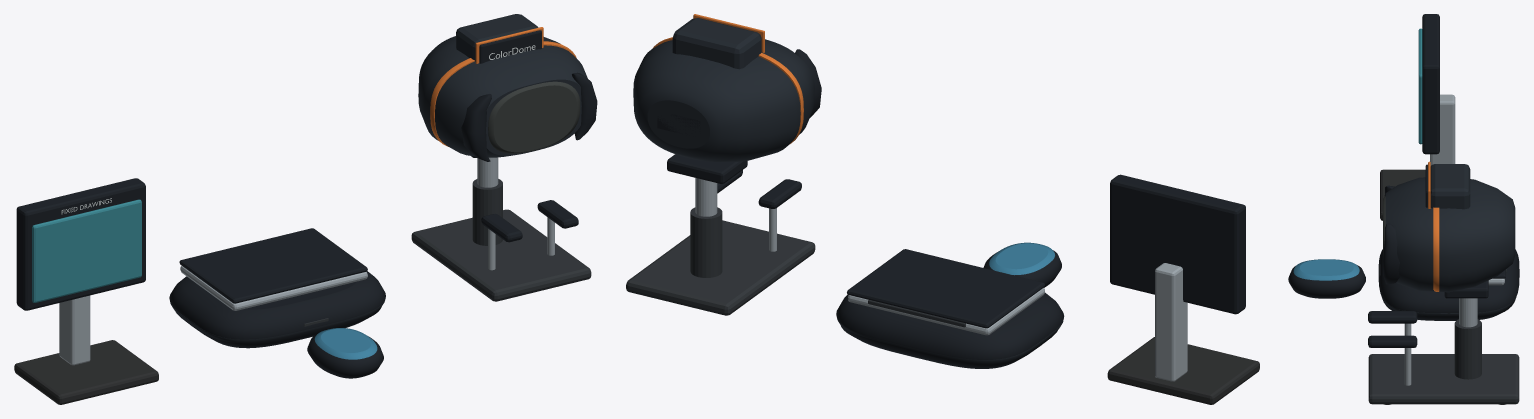
File: e3-colordome.glb
The picture shows the model from 3 angles, left to right: view 1: azimuth 30°, elevation 25°; view 2: azimuth 150°, elevation 25°; view 3: azimuth 270°, elevation 25°; orthographic projection. The views are drawn at different scales.
Parts seen in each view (by area): view 1: inferred_fixed_dome_stand Matte stand and trim, d125_nominal_outer_shell, detached_pattern_selection_panel, e3_console_dimensioned_shell, Closed portable lid, Detached archive plate foot, Detached fixed plate surround, d125_closed_opaque_face, colordome_d125_closed_head Dark molded graphite, Detached plate support, D125 raised fixed ID brow, Amplifier inactive blue cap (+6 smaller); view 2: d125_nominal_outer_shell, Detached fixed plate surround, inferred_fixed_dome_stand Matte stand and trim, Closed portable lid, e3_console_dimensioned_shell, Detached archive plate foot, Detached plate support, D125 raised fixed ID brow, inferred_fixed_dome_stand Dark molded graphite, Amplifier inactive blue cap, inferred_fixed_dome_stand Inactive aluminum support, Unpowered portable body (+4 smaller); view 3: d125_nominal_outer_shell, inferred_fixed_dome_stand Matte stand and trim, e3_console_dimensioned_shell, Detached fixed plate surround, D125 raised fixed ID brow, inferred_fixed_dome_stand Dark molded graphite, amplifier_sealed_oval_housing, Detached plate support, Amplifier inactive blue cap, colordome_d125_closed_head Dark molded graphite, inferred_fixed_dome_stand Inactive aluminum support, Detached archive plate foot (+3 smaller).
Part boxes in pixels (box(x1,y1,x2,y2)): inferred_fixed_dome_stand Matte stand and trim: box(411, 179, 591, 301); d125_nominal_outer_shell: box(418, 36, 587, 157); detached_pattern_selection_panel: box(32, 199, 141, 302); e3_console_dimensioned_shell: box(169, 271, 385, 348); Closed portable lid: box(179, 228, 367, 303); Detached archive plate foot: box(14, 340, 158, 404); Detached fixed plate surround: box(16, 178, 145, 310); d125_closed_opaque_face: box(488, 81, 580, 153); colordome_d125_closed_head Dark molded graphite: box(461, 30, 597, 161); Detached plate support: box(59, 295, 90, 365); D125 raised fixed ID brow: box(456, 14, 538, 61); Amplifier inactive blue cap: box(314, 328, 377, 359); d125_nominal_outer_shell: box(633, 39, 814, 161); Detached fixed plate surround: box(1110, 174, 1245, 314); inferred_fixed_dome_stand Matte stand and trim: box(626, 207, 815, 315); Closed portable lid: box(847, 249, 1044, 328); e3_console_dimensioned_shell: box(836, 292, 1064, 368); Detached archive plate foot: box(1107, 337, 1259, 404); Detached plate support: box(1155, 263, 1187, 381); D125 raised fixed ID brow: box(672, 18, 761, 69); inferred_fixed_dome_stand Dark molded graphite: box(667, 154, 801, 208); Amplifier inactive blue cap: box(989, 242, 1054, 275); inferred_fixed_dome_stand Inactive aluminum support: box(695, 178, 776, 251); Unpowered portable body: box(848, 288, 1044, 335); d125_nominal_outer_shell: box(1385, 177, 1515, 292); inferred_fixed_dome_stand Matte stand and trim: box(1368, 319, 1519, 404); e3_console_dimensioned_shell: box(1378, 249, 1519, 320); Detached fixed plate surround: box(1422, 14, 1439, 154); D125 raised fixed ID brow: box(1430, 164, 1470, 209); inferred_fixed_dome_stand Dark molded graphite: box(1368, 280, 1488, 347); amplifier_sealed_oval_housing: box(1288, 265, 1365, 298); Detached plate support: box(1430, 94, 1455, 165); Amplifier inactive blue cap: box(1293, 259, 1359, 280); colordome_d125_closed_head Dark molded graphite: box(1383, 164, 1427, 284); inferred_fixed_dome_stand Inactive aluminum support: box(1404, 298, 1477, 385); Detached archive plate foot: box(1380, 169, 1425, 220).
Bounding box in the file's own units: 1.36 × 0.544 × 0.541.
